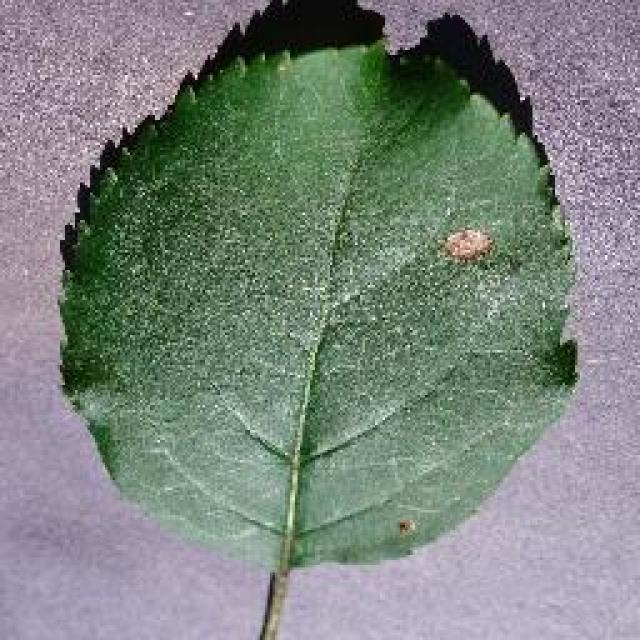Apple___Black_rot: (340, 210, 510, 538)
